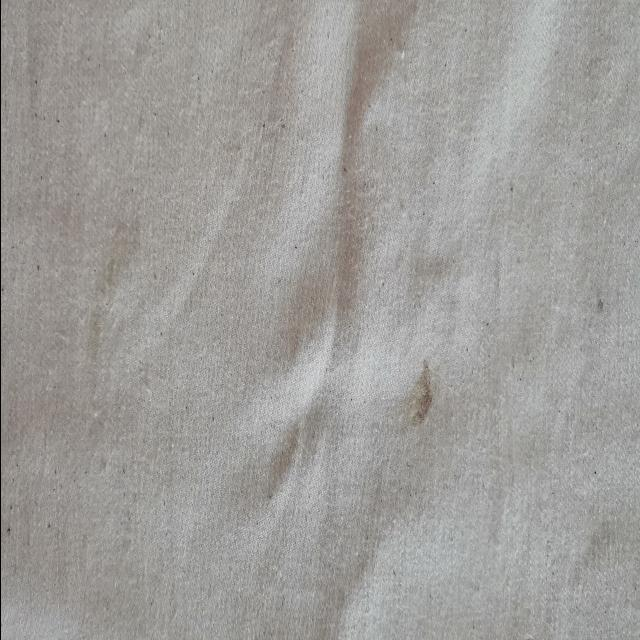taaaches: (388, 350, 448, 444)
